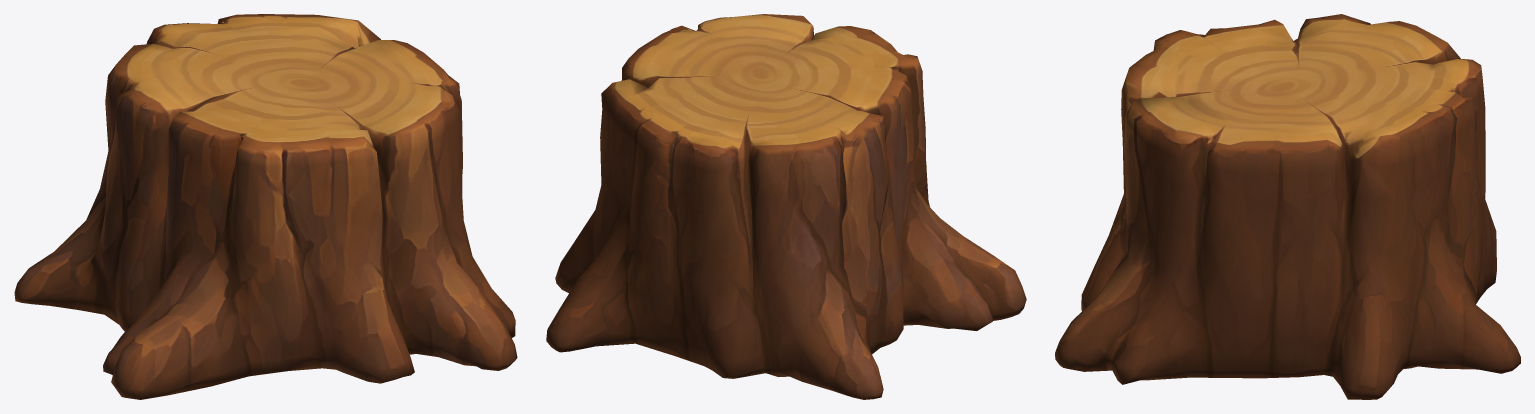
Rendered from tree_stump.glb.
The picture shows the model from 3 angles, left to right: view 1: azimuth 30°, elevation 25°; view 2: azimuth 150°, elevation 25°; view 3: azimuth 270°, elevation 25°; orthographic projection. The views are drawn at different scales.
Parts seen in each view (by area): view 1: tripo_node_1c4fa17b; view 2: tripo_node_1c4fa17b; view 3: tripo_node_1c4fa17b.
Part boxes in pixels (left/top/right/bottom): tripo_node_1c4fa17b: left=14, top=14, right=517, bottom=399; tripo_node_1c4fa17b: left=546, top=14, right=1026, bottom=399; tripo_node_1c4fa17b: left=1055, top=14, right=1520, bottom=399.
Size of the model in its own units: 97.17 by 53.75 by 96.72.
Materials: 1 (1 with a texture image).
